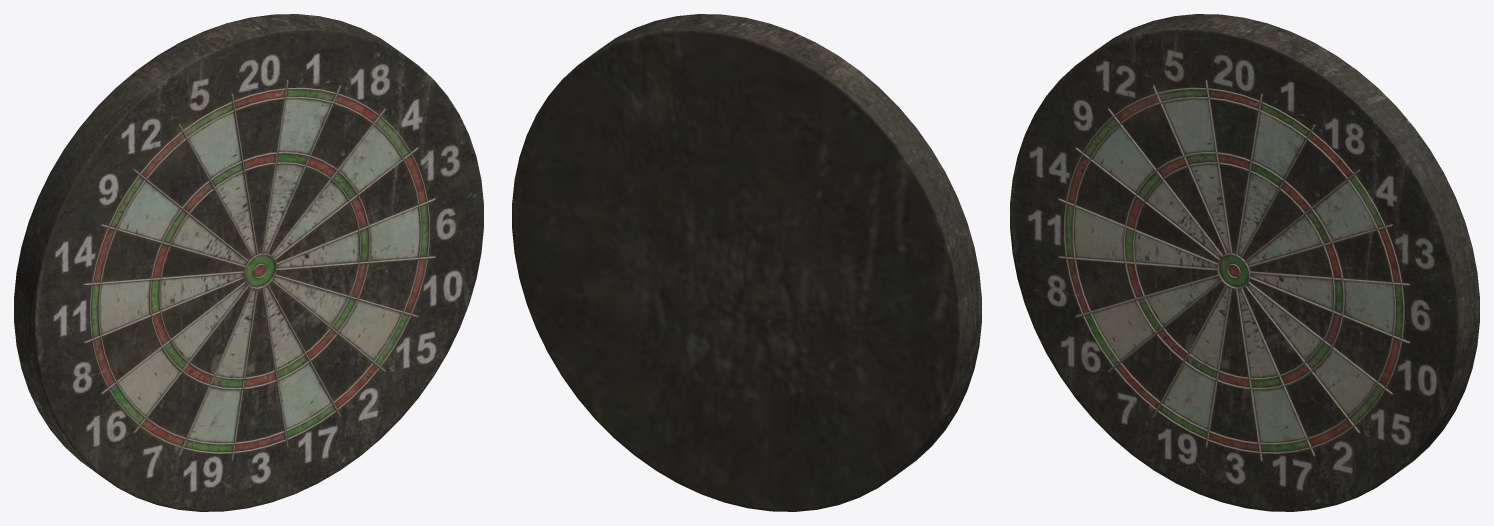
The model's file is dartboard.glb.
The picture shows the model from 3 angles, left to right: view 1: azimuth 30°, elevation 25°; view 2: azimuth 150°, elevation 25°; view 3: azimuth 330°, elevation 25°; orthographic projection.
Visible parts, largest first — view 1: dartboard; view 2: dartboard; view 3: dartboard.
Boxes of the visible parts, x1,y1,x2,y2 form: dartboard: [14, 14, 483, 511]; dartboard: [512, 14, 981, 511]; dartboard: [1010, 14, 1479, 511].
Size of the model in its own units: 0.4507 by 0.4507 by 0.0398.
Materials: 1 (1 with a texture image).
